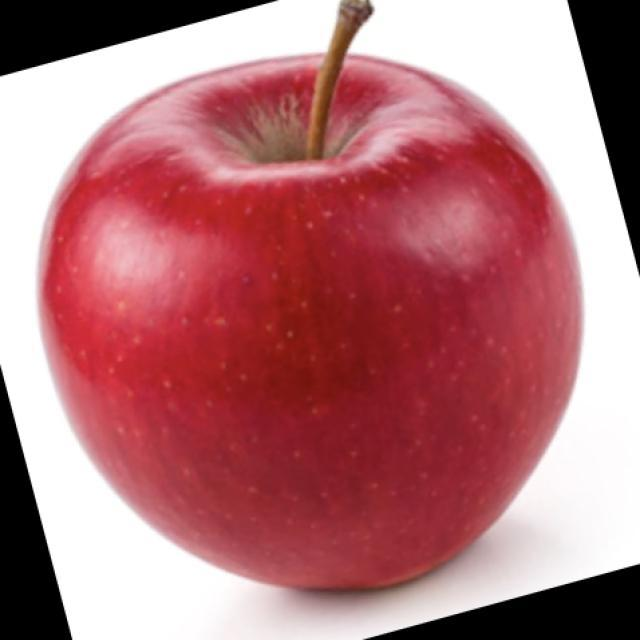Apple: (35, 1, 585, 592)
